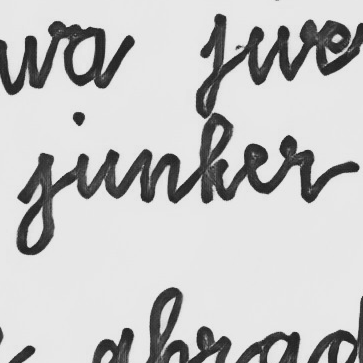e: (240, 141, 273, 195)
j: (14, 149, 58, 257)
k: (195, 111, 237, 205)
n: (136, 147, 184, 208)
r: (275, 132, 318, 206)
u: (73, 147, 122, 203)
